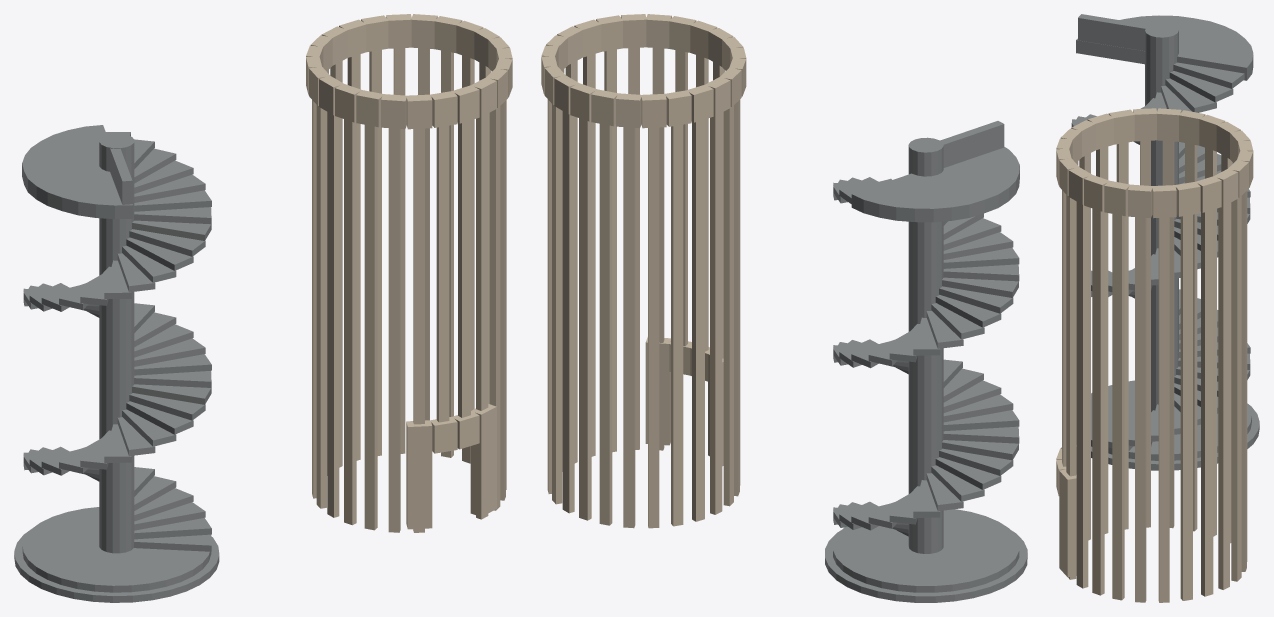
The model's file is Learning the Moves.glb.
3 renders of one model, left to right at view 1: azimuth 30°, elevation 25°; view 2: azimuth 150°, elevation 25°; view 3: azimuth 270°, elevation 25°, orthographic. The views are drawn at different scales.
Parts seen in each view (by area): view 1: Mesh_Mesh_head_geo.001_lambert2SG.001; view 2: Mesh_Mesh_head_geo.001_lambert2SG.001; view 3: Mesh_Mesh_head_geo.001_lambert2SG.001.
Boxes of the visible parts, bbox=[...] form: Mesh_Mesh_head_geo.001_lambert2SG.001: bbox=[14, 14, 512, 602]; Mesh_Mesh_head_geo.001_lambert2SG.001: bbox=[541, 14, 1027, 602]; Mesh_Mesh_head_geo.001_lambert2SG.001: bbox=[1056, 14, 1259, 602].
Bounding box in the file's own units: 78.79 × 70 × 31.2.
